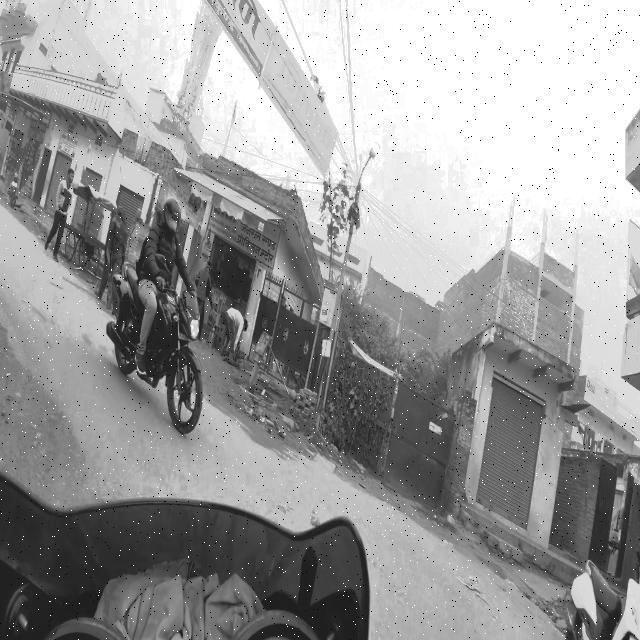Bike: (110, 196, 209, 454)
